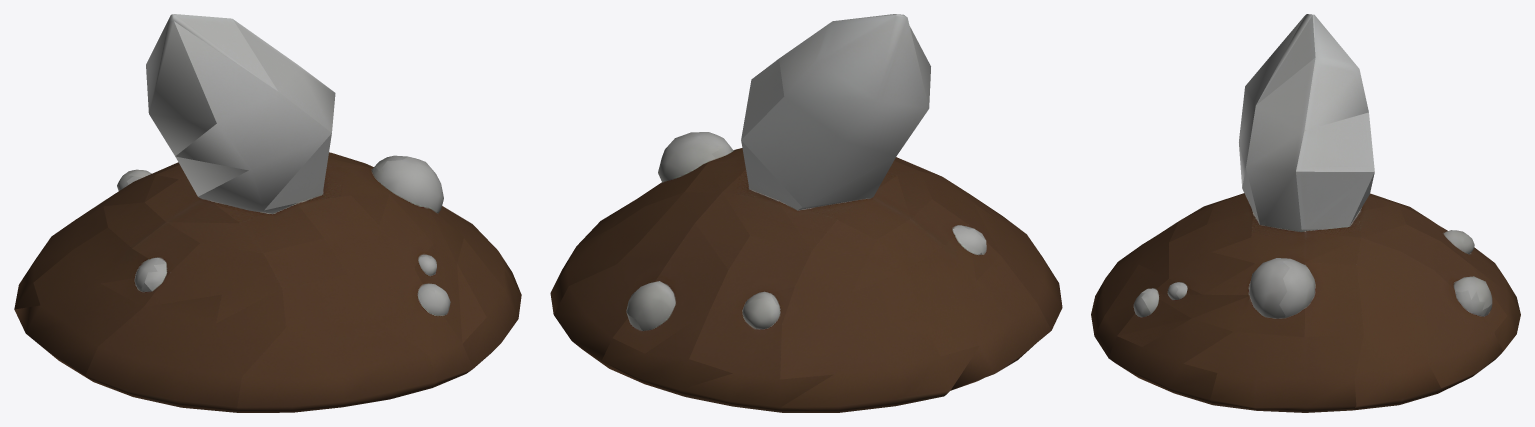
Rendered from rock_shard.glb.
3 views of the same model, side by side, from view 1: azimuth 30°, elevation 25°; view 2: azimuth 150°, elevation 25°; view 3: azimuth 270°, elevation 25° (orthographic). The views are drawn at different scales.
Visible parts, largest first — view 1: mesh_node; view 2: mesh_node; view 3: mesh_node.
Part boxes in pixels (x1,y1,x2,y2): mesh_node: [14, 14, 521, 412]; mesh_node: [550, 14, 1062, 412]; mesh_node: [1091, 14, 1520, 412].
Size of the model in its own units: 1 by 0.709 by 1.
1 material, 1 textured.
